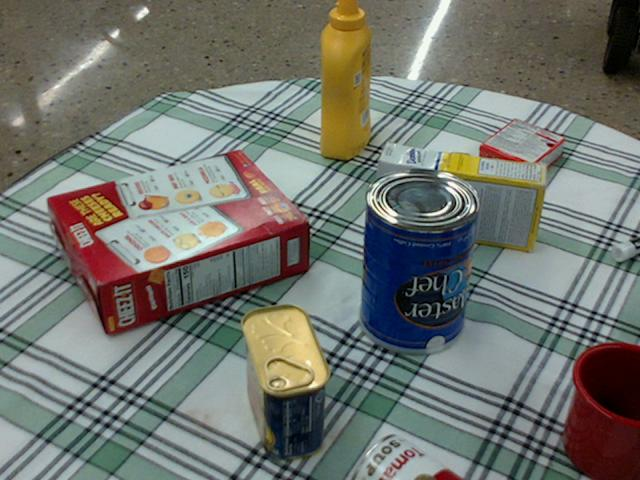cracker_box: (47, 151, 305, 333)
gelatin_box: (477, 118, 564, 183)
large_marker: (610, 235, 639, 260)
master_chef_can: (359, 167, 482, 352)
mug: (561, 342, 639, 479)
mustard_bottle: (319, 0, 371, 158)
potted_meat_can: (240, 304, 330, 459)
sugar_box: (373, 144, 547, 251)
tomato_soup_can: (352, 435, 462, 479)
